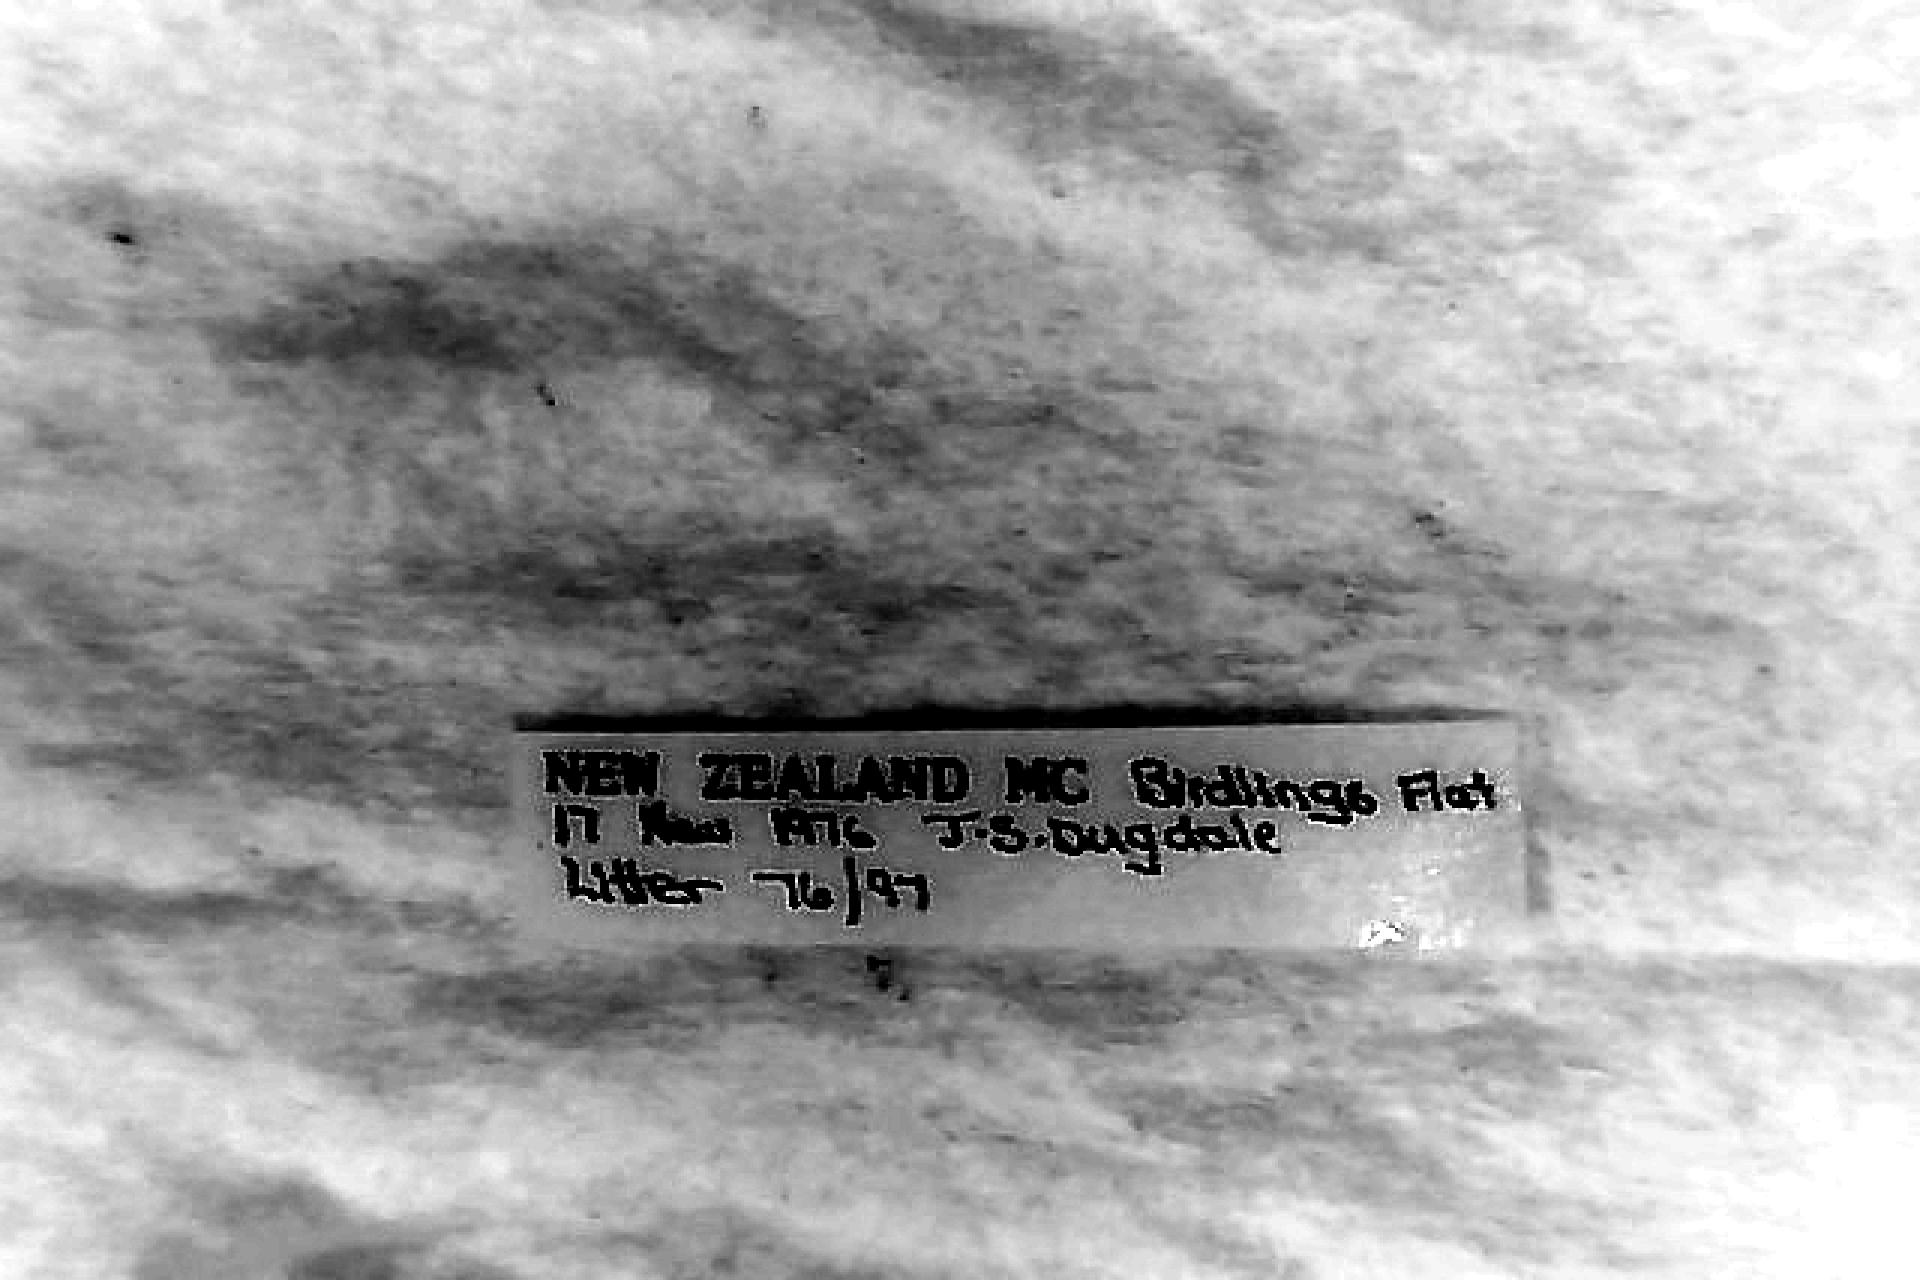mixed_label: (514, 717, 1526, 945)
